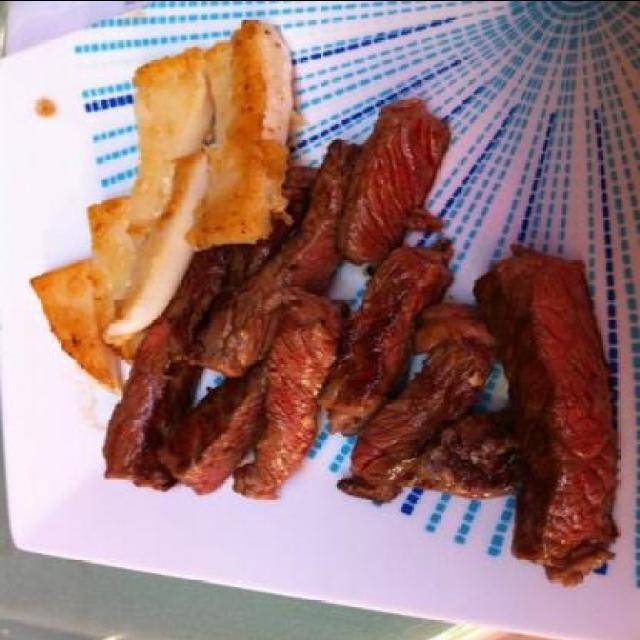Steak: (117, 138, 614, 550)
